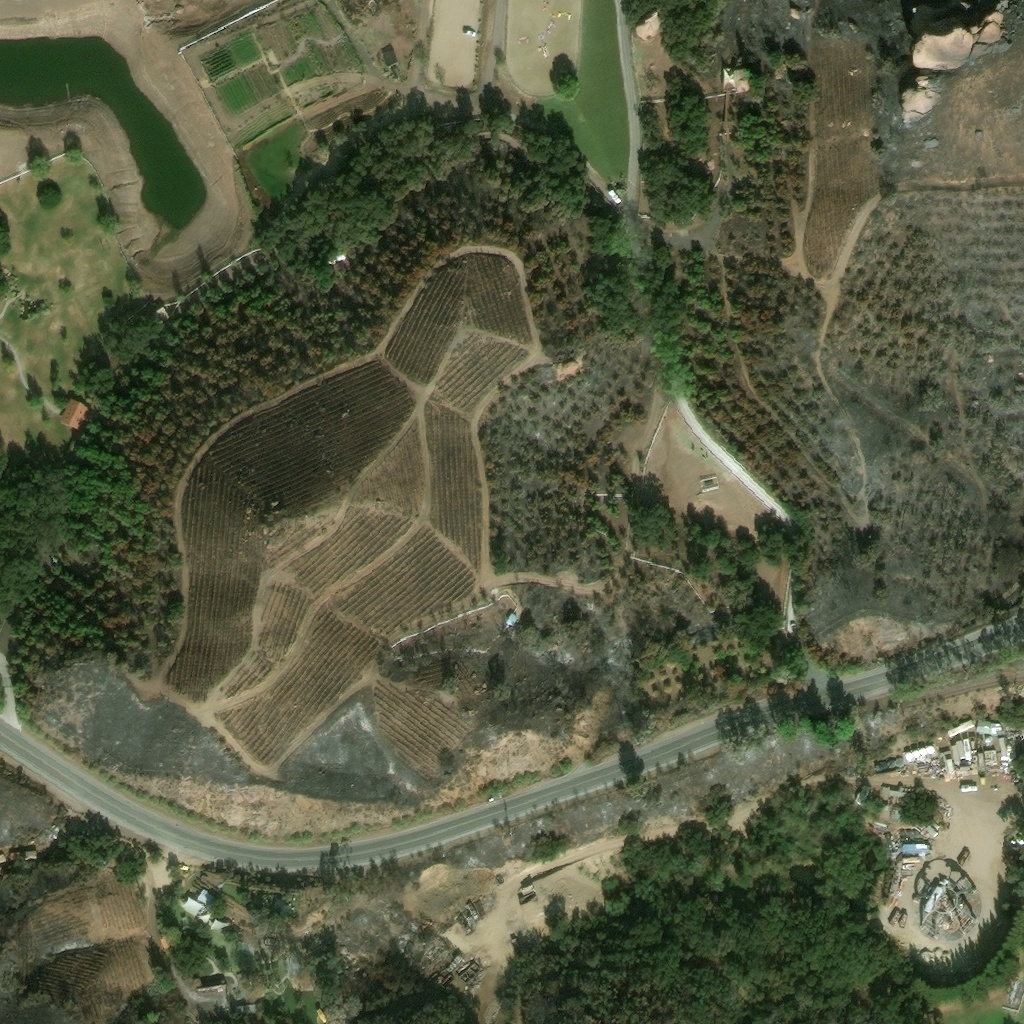0 no-damage: (59, 396, 90, 429), (180, 895, 202, 920), (722, 67, 748, 88), (946, 717, 974, 736), (380, 44, 400, 66), (284, 952, 304, 973), (235, 938, 254, 960), (852, 782, 870, 805), (208, 916, 227, 935), (977, 719, 1001, 734), (324, 249, 346, 265), (196, 887, 213, 905), (882, 788, 908, 798), (882, 830, 893, 852), (575, 499, 590, 515), (36, 845, 50, 861), (154, 304, 169, 318), (203, 973, 222, 984), (901, 842, 928, 848), (519, 883, 533, 894), (506, 612, 517, 625), (391, 65, 400, 76), (877, 759, 886, 769), (886, 758, 895, 768), (895, 756, 904, 765), (904, 751, 912, 760), (926, 744, 934, 753), (175, 5, 184, 13), (182, 927, 193, 933), (918, 746, 926, 754), (911, 749, 918, 756), (382, 70, 389, 76)
3 destroyed: (409, 930, 446, 972)
4 un-classified: (504, 927, 541, 955), (1001, 973, 1023, 1011), (190, 996, 218, 1008), (199, 1007, 226, 1019), (261, 992, 276, 1010), (229, 926, 242, 942), (253, 949, 264, 964), (225, 944, 235, 958), (148, 911, 157, 924), (149, 925, 159, 936), (207, 951, 214, 958), (202, 967, 208, 973)
